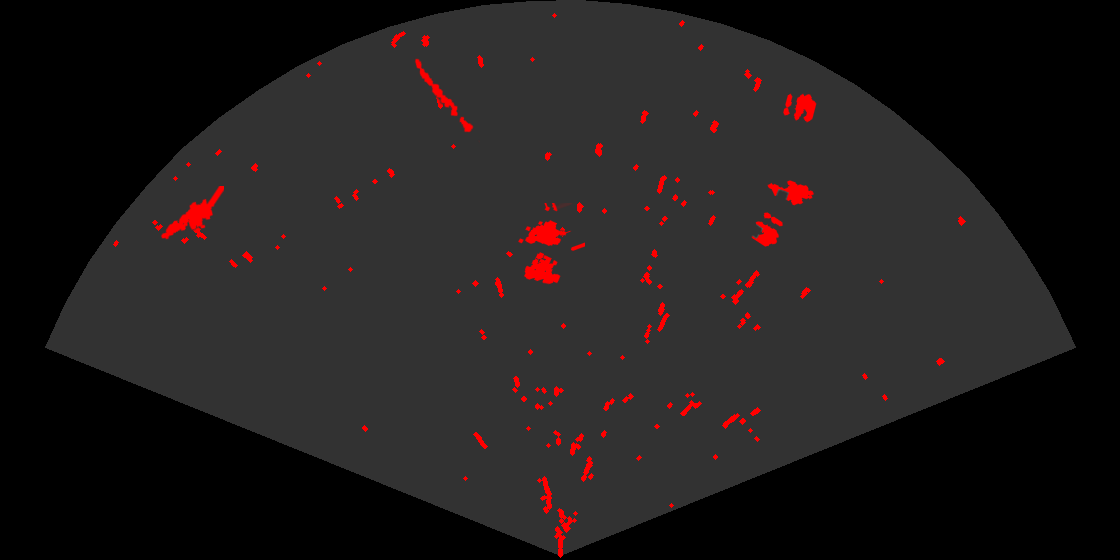AUV: (766, 179, 816, 207)
ball: (750, 211, 784, 248), (782, 92, 818, 124)
cage: (517, 203, 585, 286)
chain: (413, 57, 480, 144)
frogman: (159, 186, 224, 241)
